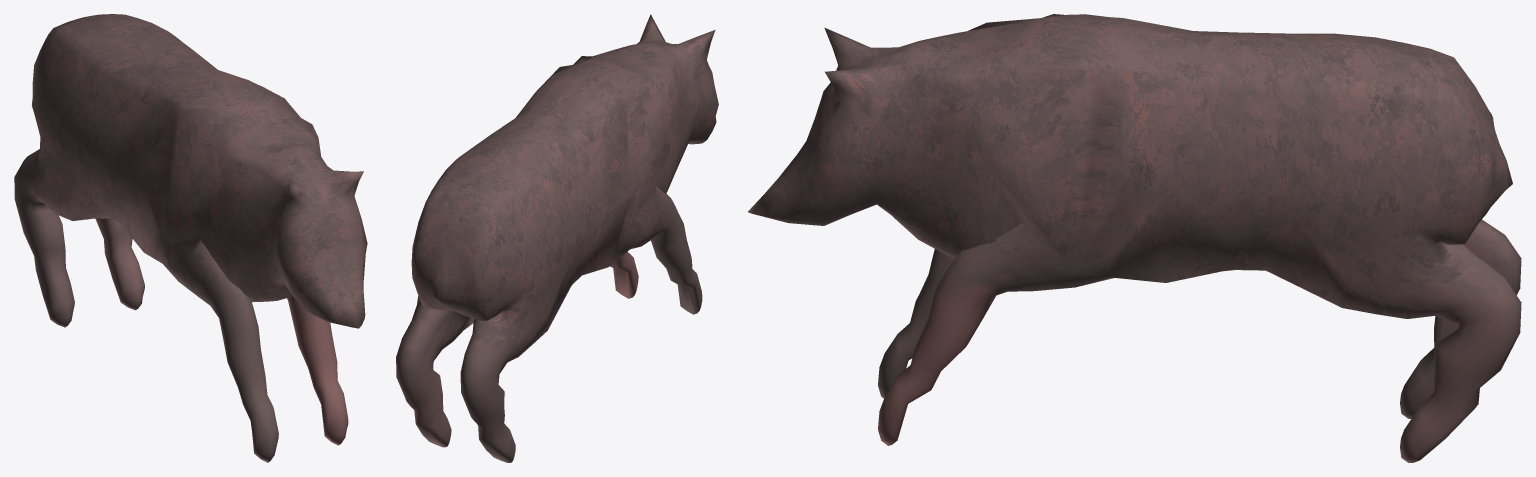
File: piesblend_000027.obj
3 renders of one model, left to right at view 1: azimuth 30°, elevation 25°; view 2: azimuth 150°, elevation 25°; view 3: azimuth 270°, elevation 25°, orthographic. The views are drawn at different scales.
Visible parts, largest first — view 1: Cube; view 2: Cube; view 3: Cube.
Part boxes in pixels (x1=…): Cube: x1=14, y1=14, x2=367, y2=462; Cube: x1=396, y1=14, x2=718, y2=462; Cube: x1=748, y1=14, x2=1521, y2=462.
Size of the model in its own units: 2.55 by 5.49 by 9.3.
1 material, 1 textured.
